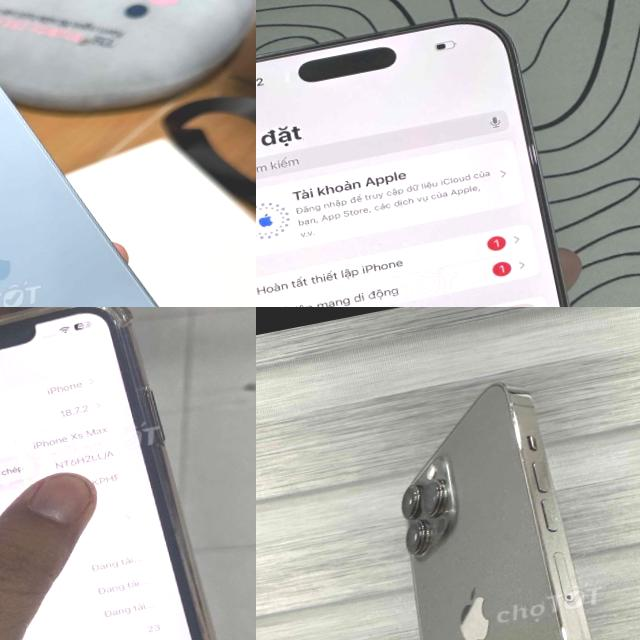gen_12_13: (363, 362, 640, 640)
gen_16: (256, 20, 569, 307)
gen_17: (0, 12, 241, 307)
gen_x_xs: (0, 307, 256, 640)
scratch: (103, 312, 128, 337)
screen_defect: (0, 344, 36, 491), (44, 567, 116, 640)
